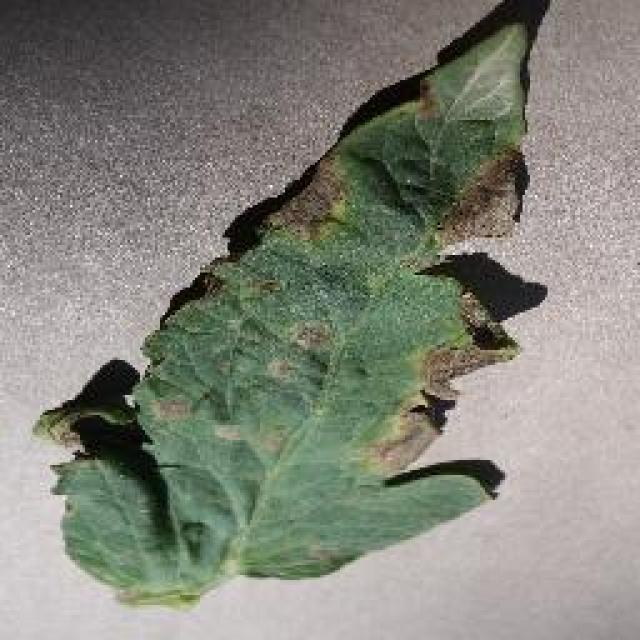Tomato___Early_blight: (31, 23, 532, 619)
